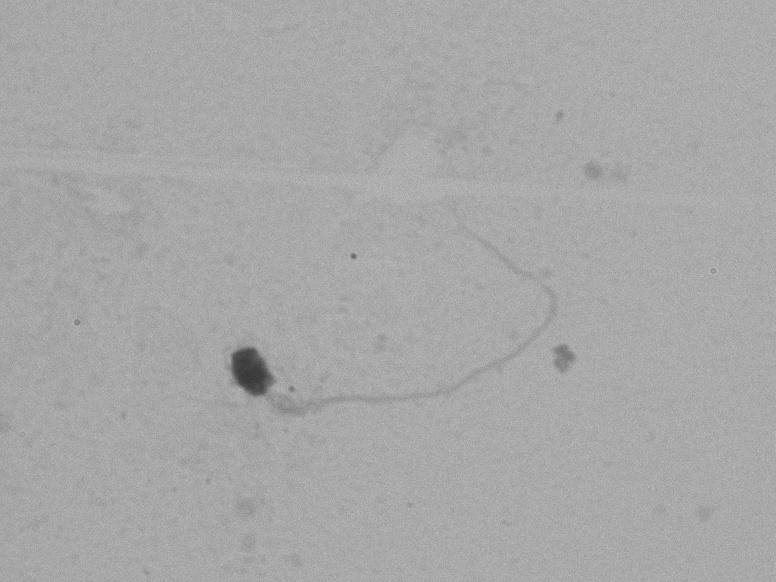Abnormal: (190, 185, 579, 461)
